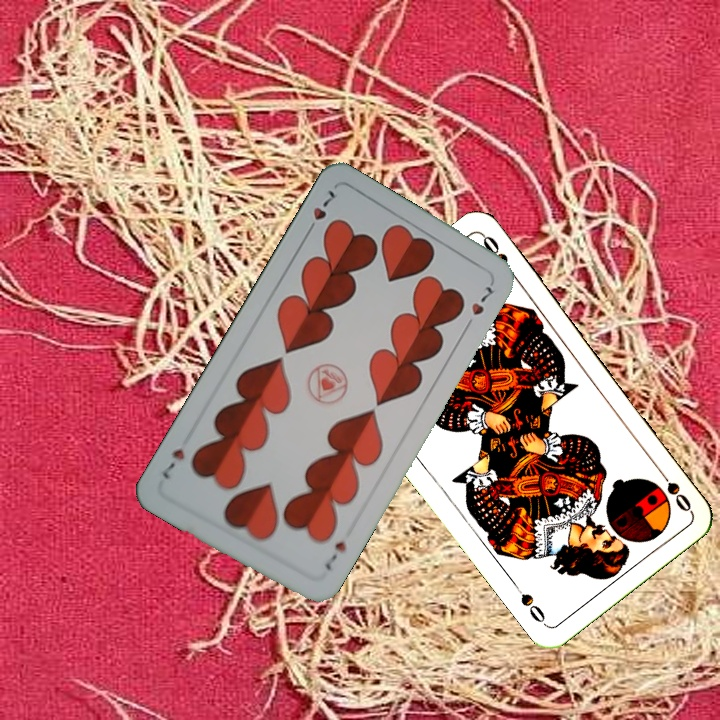H7: (301, 185, 338, 238), (320, 537, 349, 573)
SO: (652, 463, 694, 515)
